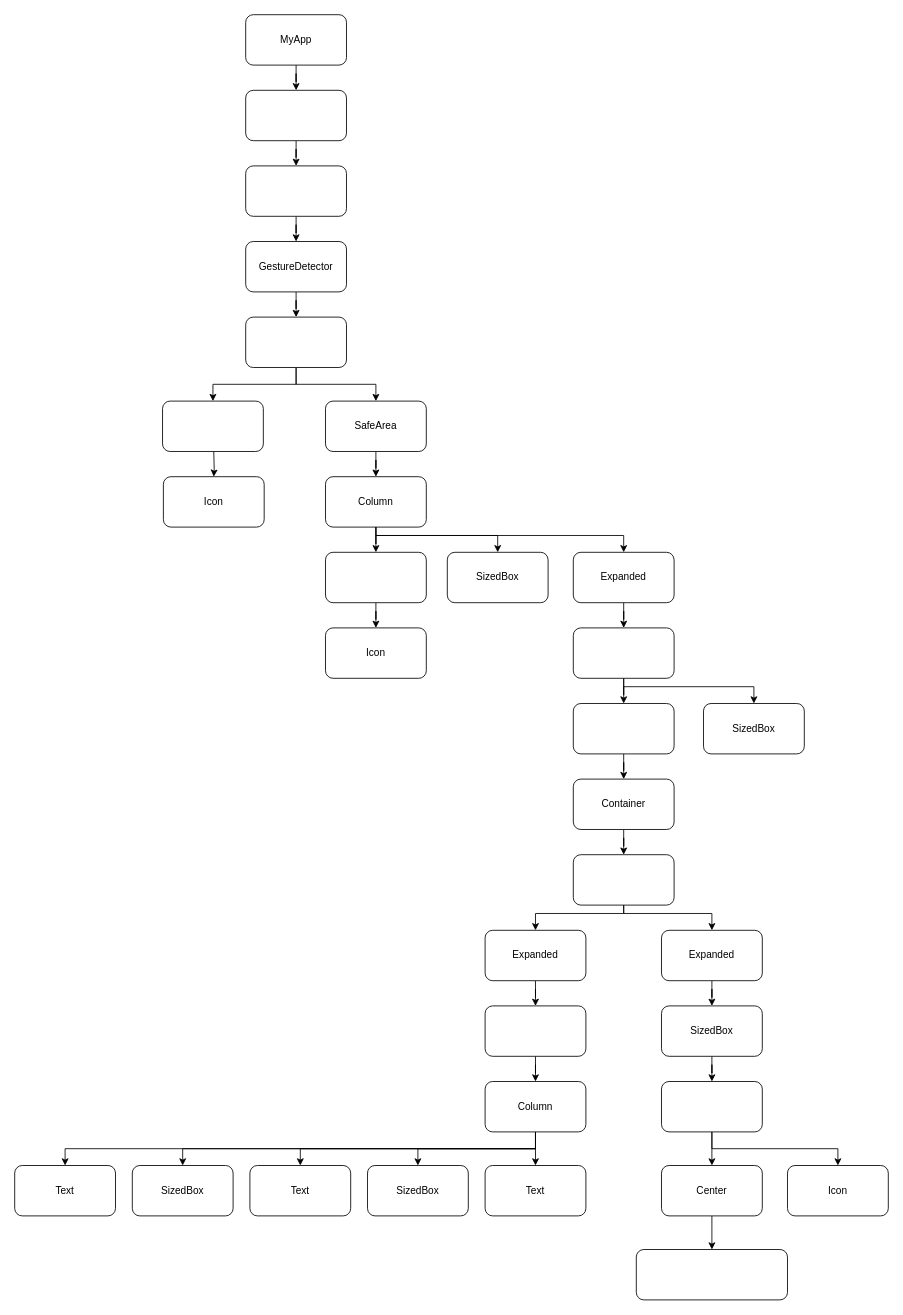
Some shapes in this 903 by 1315 pixel diagram are drawn without their labels. The centre of each missing label's shape, as x and y in pixels:
CircularProgressIndicator: point 711,1274
FloatingActionButton: point 212,426
Home: point 295,190
Image network: point 711,1106
InkWell: point 623,728
ListView seperated: point 623,652
MaterialApp: point 295,115
Padding: point 535,1030
Row: point 623,879
Scaffold: point 295,342
TextField: point 375,577
